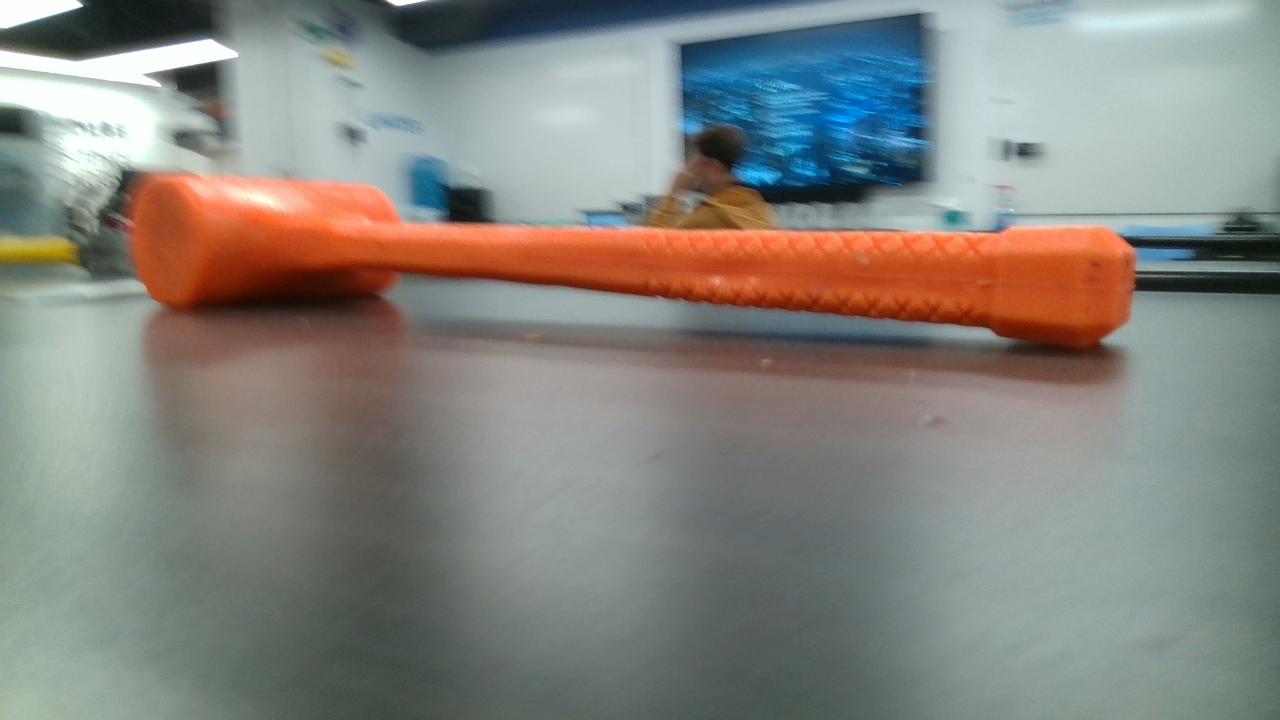Orange Hammer: (135, 172, 1134, 348)
